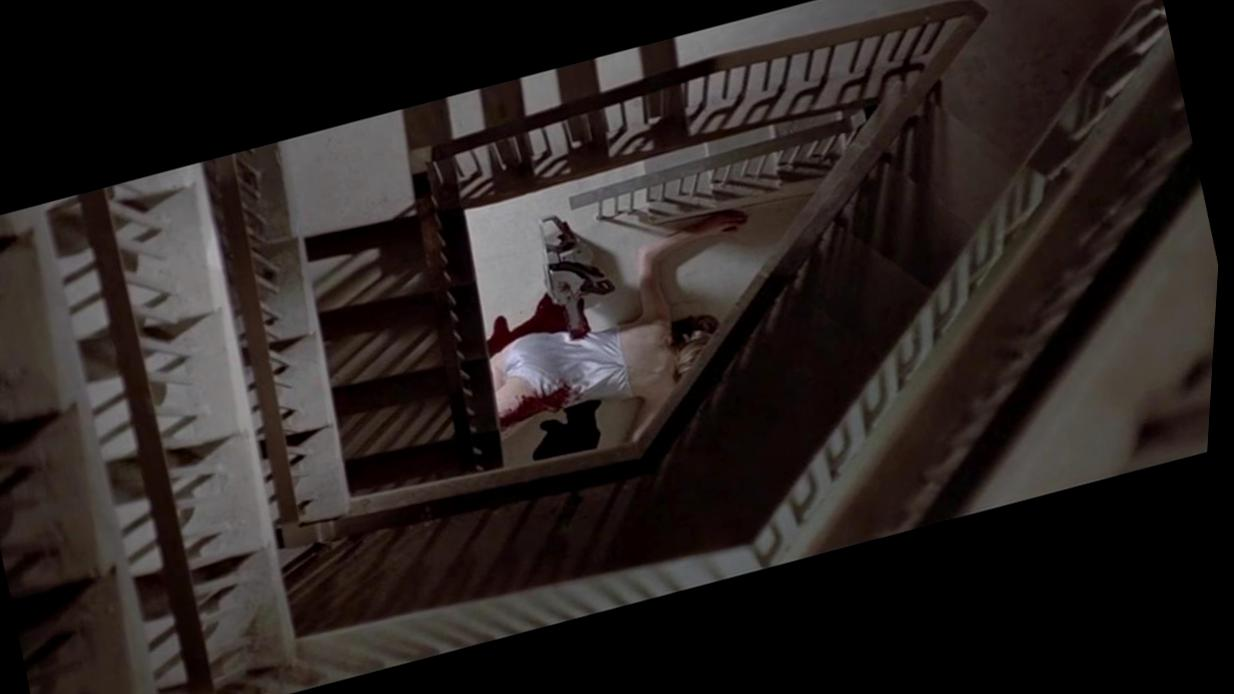Fire: (491, 292, 571, 356), (538, 399, 606, 460), (504, 384, 574, 428)
